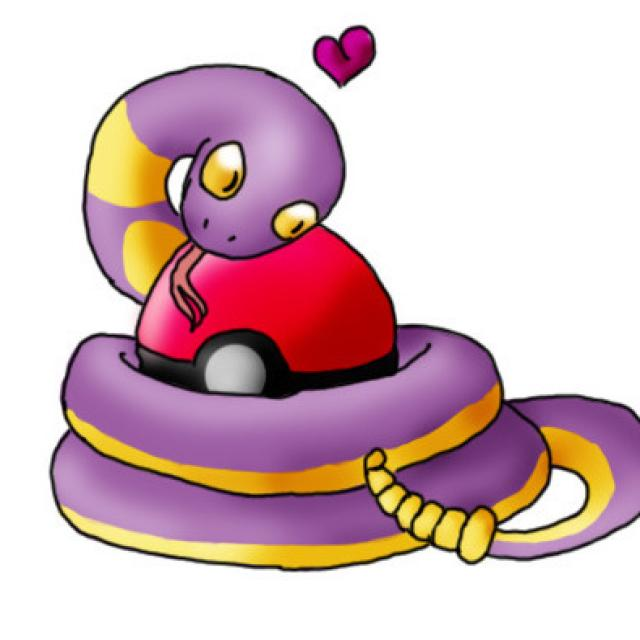Ekans: (68, 63, 555, 566)
